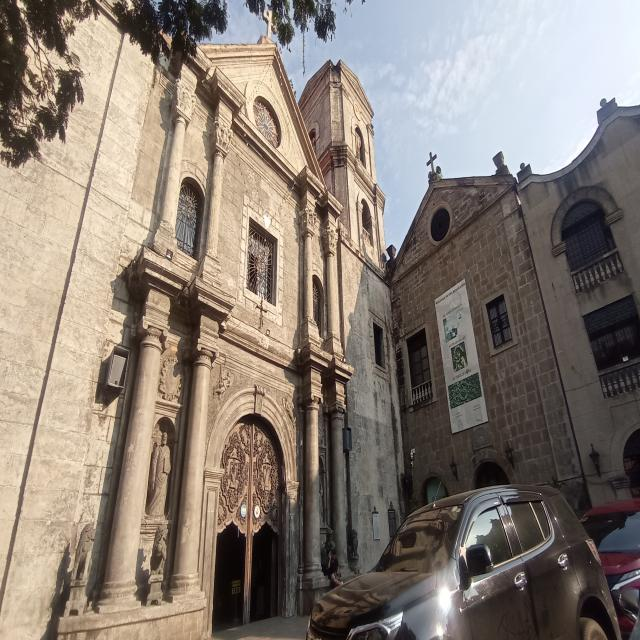San Agustin Church: (1, 4, 414, 634)
